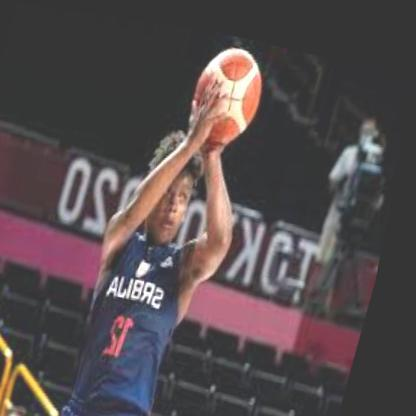basketball: (185, 37, 272, 146)
